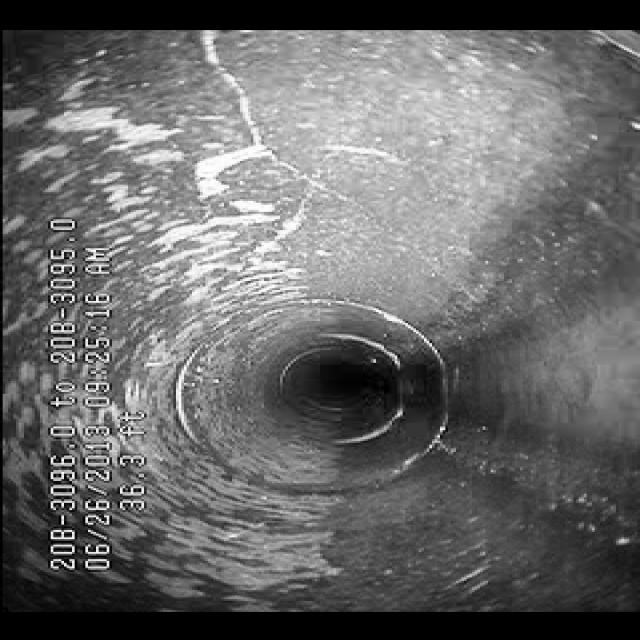Crack: (202, 74, 314, 262)
